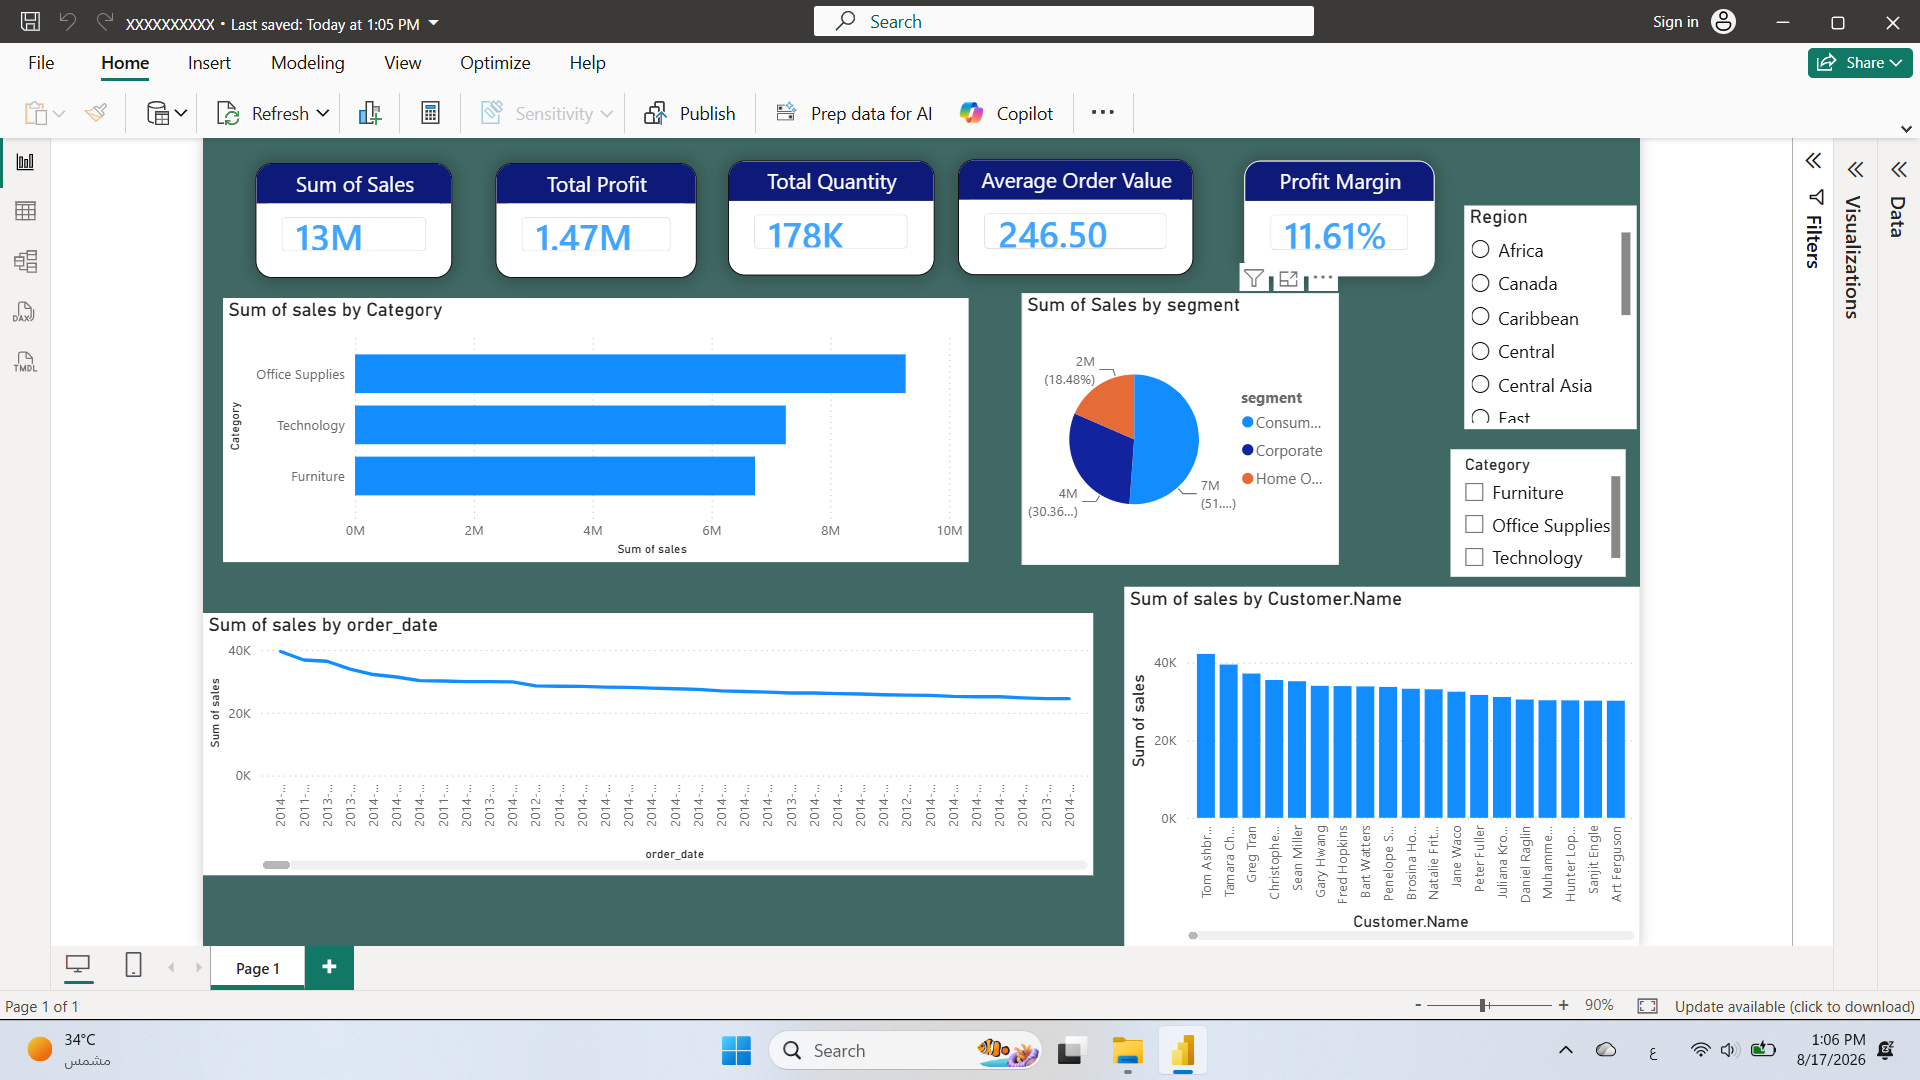

Layout of this report page (visuals, bound fields, positions):
{"tool":"powerbi","page":{"name":"Page 1","canvas":[1280,720],"ordinal":0},"visuals":[{"type":"cardVisual","title":"Sum of Sales","fields":{"Data":["Sum(public fact_sales.sales)"]},"box":[46.5,22.1,175.6,102.3],"z":0},{"type":"cardVisual","title":"Total Profit","fields":{"Data":["public fact_sales.Total Profit"]},"box":[260.5,22.1,179.1,102.3],"z":1000},{"type":"cardVisual","title":"Total Quantity","fields":{"Data":["public fact_sales.Total Quantity"]},"box":[467.4,19.8,183.7,102.3],"z":2000},{"type":"cardVisual","title":"Average Order Value","fields":{"Data":["public fact_sales.Average Order Value"]},"box":[672.4,19.2,209.9,102.9],"z":3000},{"type":"cardVisual","title":"Profit Margin","fields":{"Data":["public fact_sales.Profit Margin"]},"box":[926.7,19.8,169.8,103.5],"z":4000},{"type":"clusteredBarChart","fields":{"Category":["public orders.Category"],"Y":["Sum(public fact_sales.sales)"]},"box":[17.4,143,664,234.9],"z":5000},{"type":"lineChart","fields":{"Category":["public fact_sales.order_date"],"Y":["Sum(public fact_sales.sales)"]},"box":[0,423.3,793,233.7],"z":6000},{"type":"slicer","fields":{"Values":["public orders.Category"]},"box":[1110.5,276.7,155.8,114],"z":7000},{"type":"listSlicer","fields":{"Values":["public orders.Region"]},"box":[1123.3,60.5,153.5,198.8],"z":8000},{"type":"pieChart","fields":{"Category":["public dim_customers.segment"],"Y":["Sum(public orders.Sales)"]},"box":[729.1,138.4,282.6,241.9],"z":9000},{"type":"clusteredColumnChart","fields":{"Category":["public orders.Customer.Name"],"Y":["Sum(public fact_sales.sales)"]},"box":[820.9,400,459.3,319.8],"z":10000}]}

Visuals, with their boxes on the page's 1280x720 design canvas (x1, y1, x2, y2). These are canvas units, not pixel positions in the 1920x1080 screenshot, which may show the page scaled, cropped or inside an application window:
"Sum of Sales" cardVisual: rect(46, 22, 222, 124)
"Total Profit" cardVisual: rect(260, 22, 440, 124)
"Total Quantity" cardVisual: rect(467, 20, 651, 122)
"Average Order Value" cardVisual: rect(672, 19, 882, 122)
"Profit Margin" cardVisual: rect(927, 20, 1096, 123)
clusteredBarChart - public orders.Category x Sum(public fact_sales.sales): rect(17, 143, 681, 378)
lineChart - public fact_sales.order_date x Sum(public fact_sales.sales): rect(0, 423, 793, 657)
slicer - public orders.Category: rect(1110, 277, 1266, 391)
listSlicer - public orders.Region: rect(1123, 60, 1277, 259)
pieChart - public dim_customers.segment x Sum(public orders.Sales): rect(729, 138, 1012, 380)
clusteredColumnChart - public orders.Customer.Name x Sum(public fact_sales.sales): rect(821, 400, 1280, 720)
